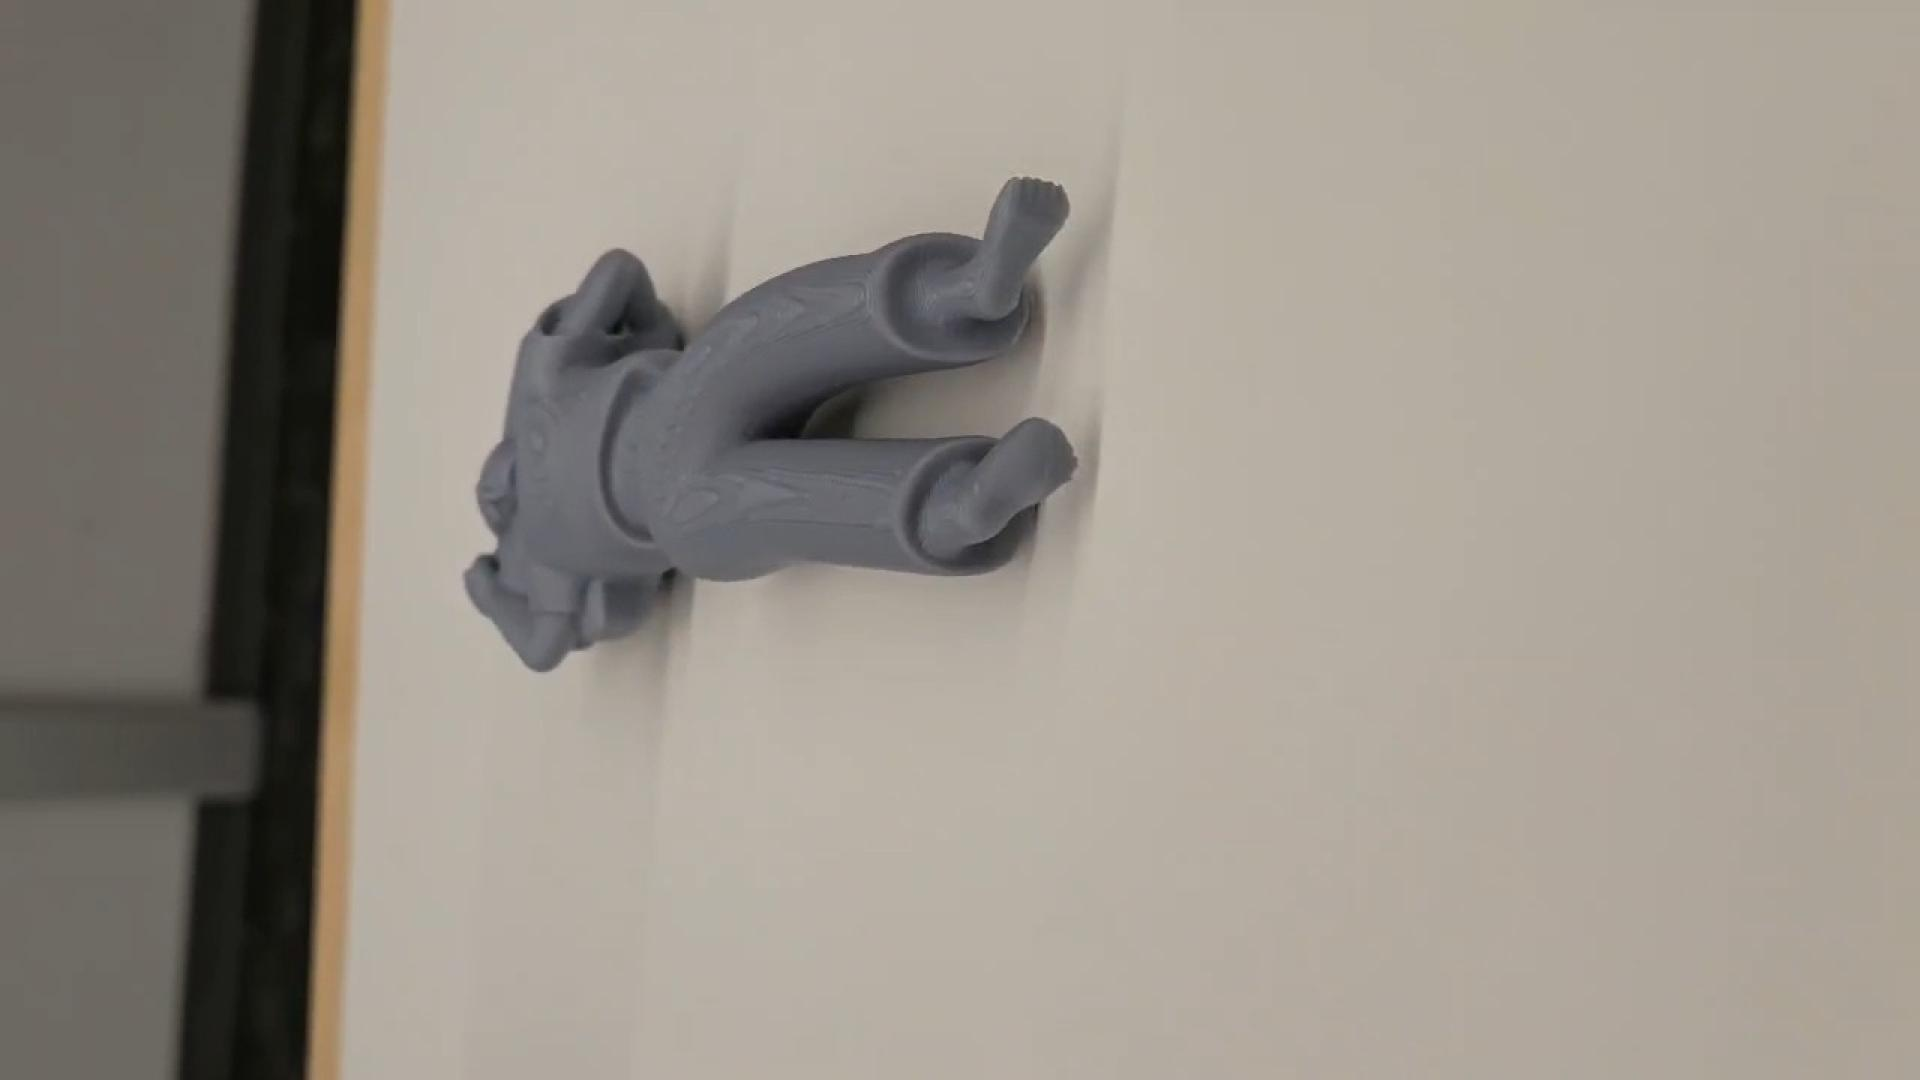Bad-style: (459, 166, 1077, 682)
